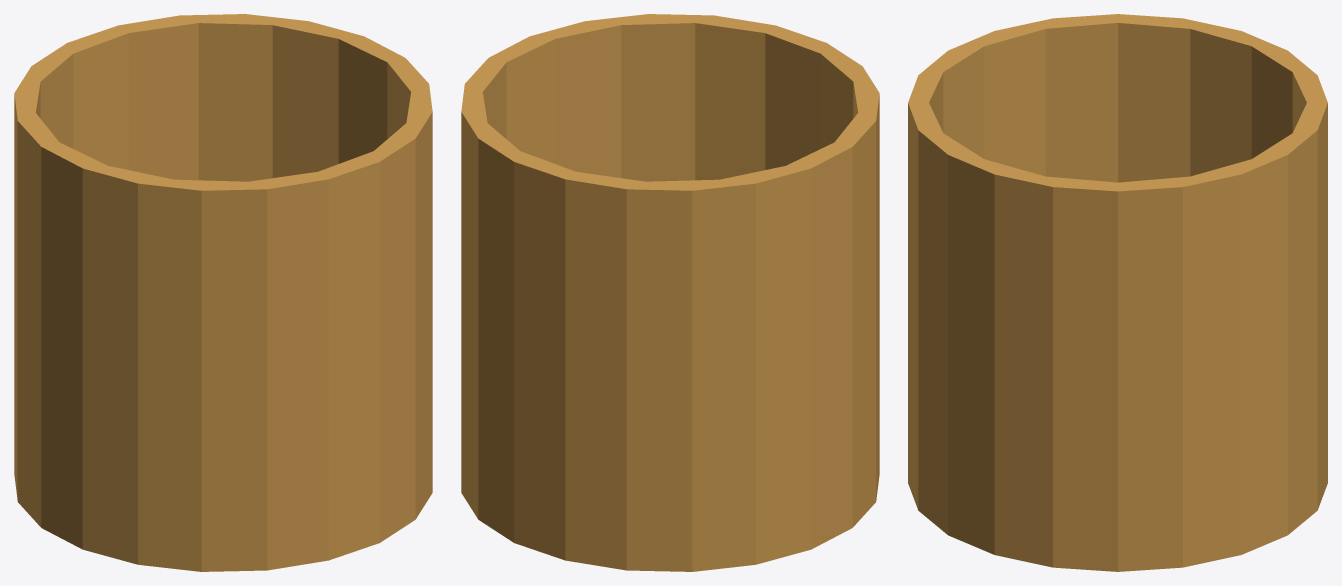
File: Hole_Cylinder.gltf
3 renders of one model, left to right at view 1: azimuth 30°, elevation 25°; view 2: azimuth 150°, elevation 25°; view 3: azimuth 270°, elevation 25°, orthographic.
Visible parts, largest first — view 1: Mesh_Mesh_head_geo.001_lambert2SG.001; view 2: Mesh_Mesh_head_geo.001_lambert2SG.001; view 3: Mesh_Mesh_head_geo.001_lambert2SG.001.
Part boxes in pixels (bbox=[...]): Mesh_Mesh_head_geo.001_lambert2SG.001: bbox=[14, 14, 432, 571]; Mesh_Mesh_head_geo.001_lambert2SG.001: bbox=[461, 14, 879, 571]; Mesh_Mesh_head_geo.001_lambert2SG.001: bbox=[908, 14, 1327, 571].
Bounding box in the file's own units: 20 × 20 × 20.
